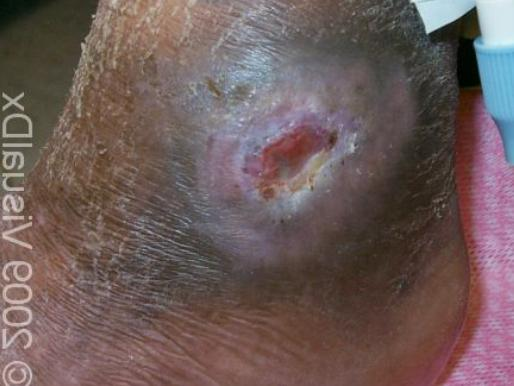Stage4: (208, 58, 385, 237)
